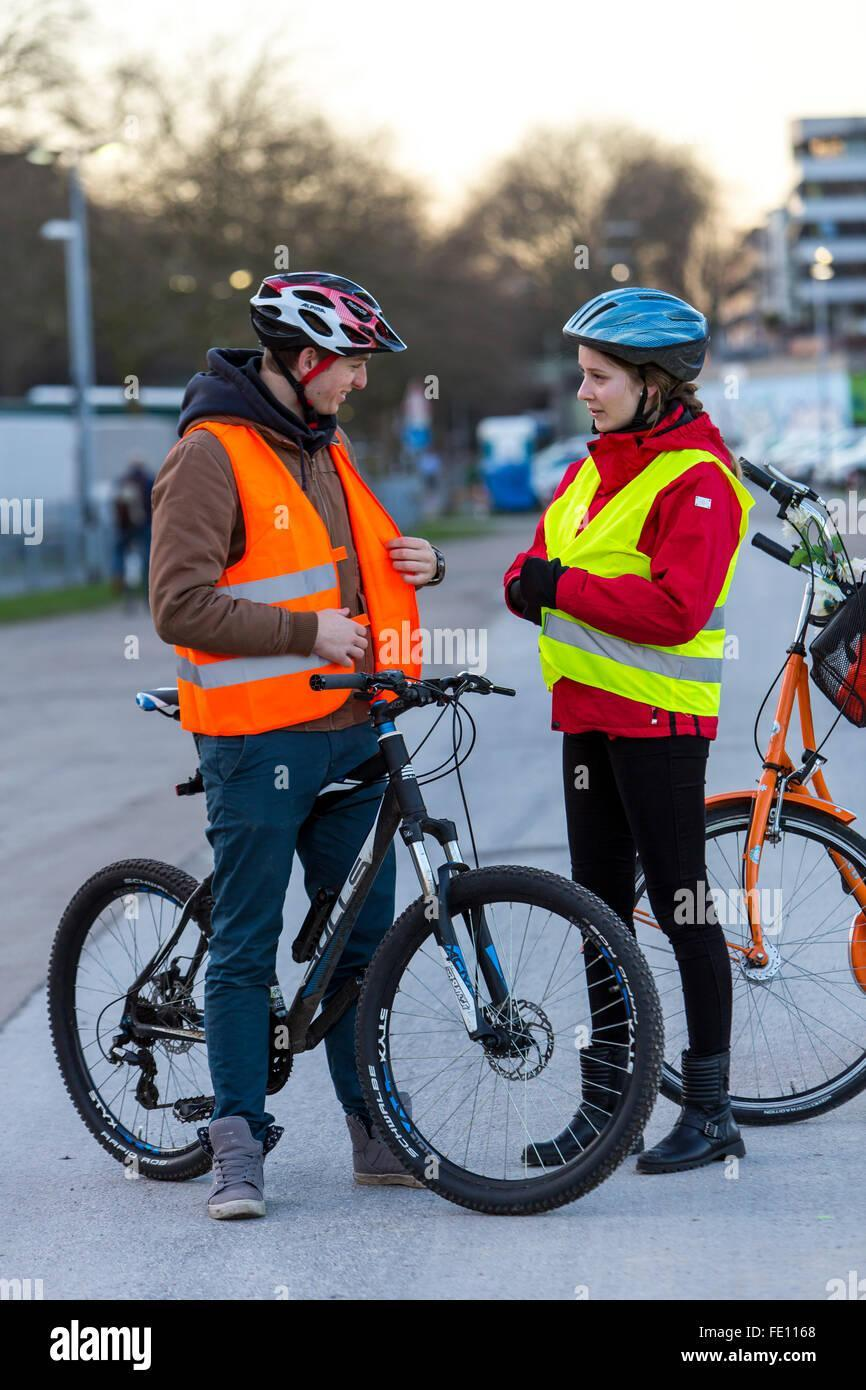Vest: (160, 418, 418, 719), (523, 445, 743, 728)
